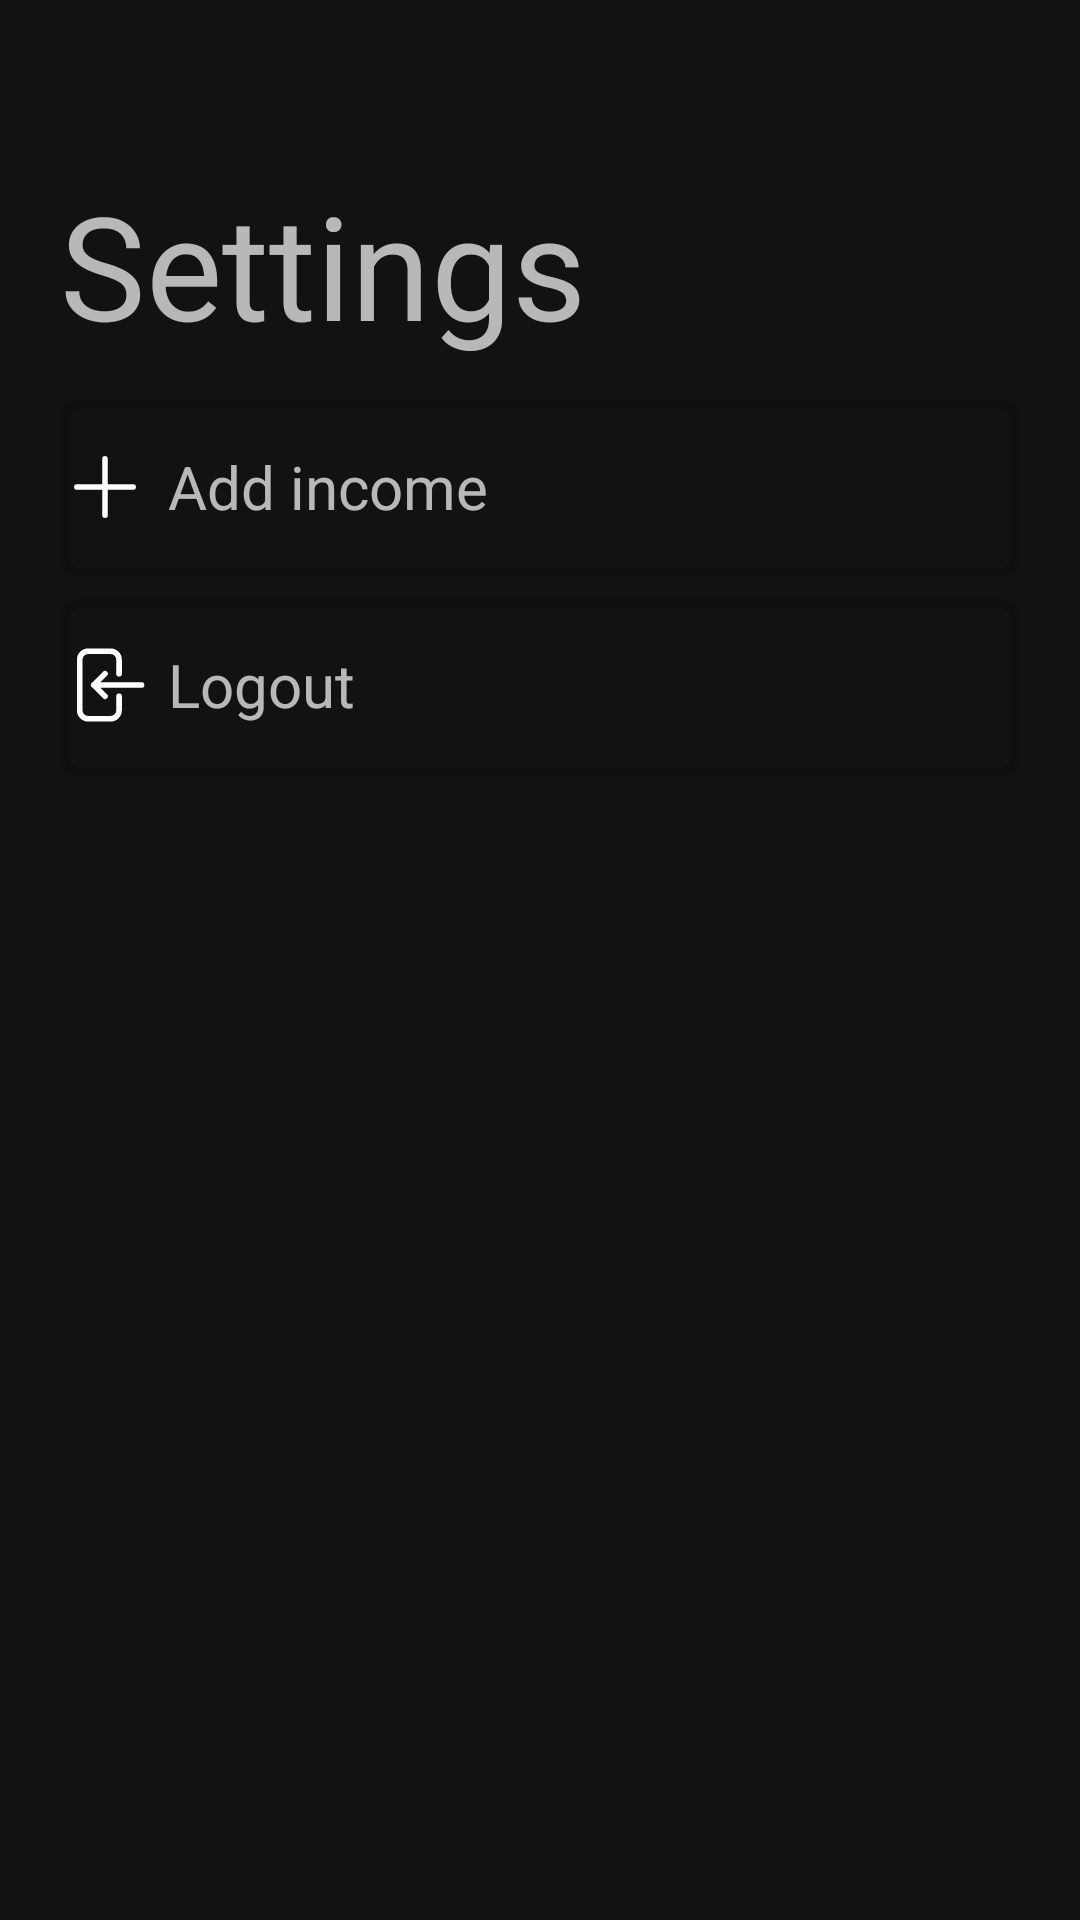

Where to tap for icons on this 1080×1920 app screen, as (x,y):
plus: (105,487)
